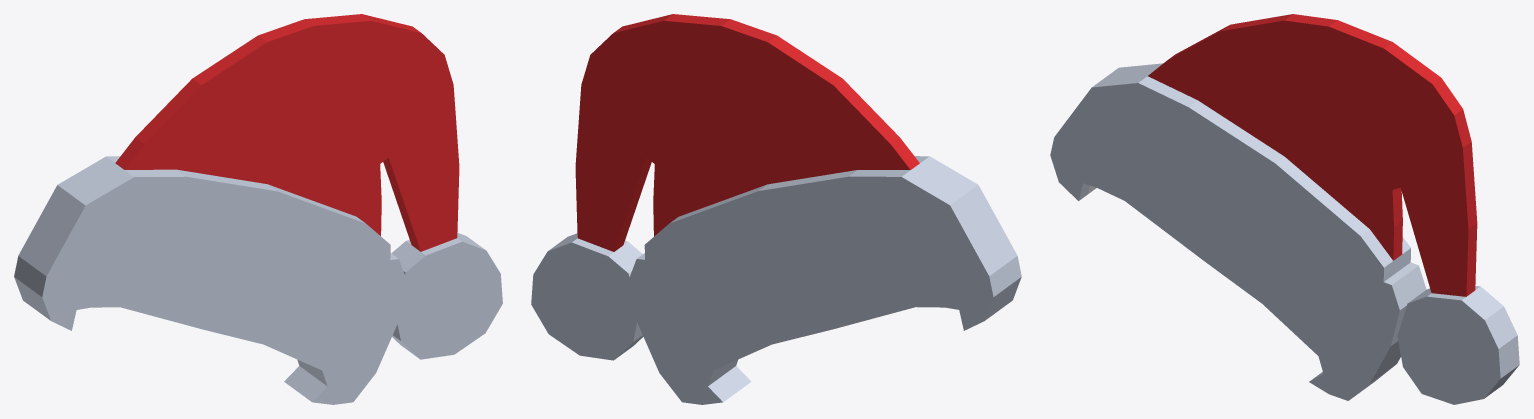
The model's file is christmas_hat_make_in_blender.glb.
3 views of the same model, side by side, from view 1: azimuth 30°, elevation 25°; view 2: azimuth 150°, elevation 25°; view 3: azimuth 330°, elevation 25° (orthographic). The views are drawn at different scales.
Visible parts, largest first — view 1: Plane_1; view 2: Plane_1; view 3: Plane_1.
Part boxes in pixels (<box>): Plane_1: <box>14,14,502,404</box>; Plane_1: <box>531,14,1021,404</box>; Plane_1: <box>1050,14,1519,404</box>.
Bounding box in the file's own units: 2.53 × 1.95 × 0.2658.
